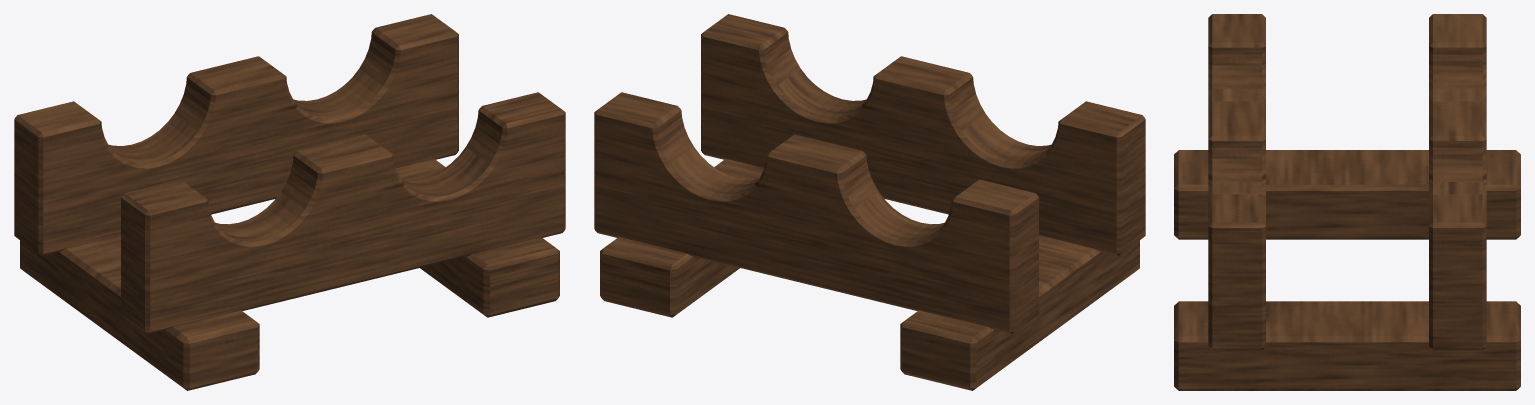
File: ThreeFingerRest_LOD0.fbx
3 views of the same model, side by side, from view 1: azimuth 30°, elevation 25°; view 2: azimuth 150°, elevation 25°; view 3: azimuth 270°, elevation 25° (orthographic). The views are drawn at different scales.
Parts seen in each view (by area): view 1: ThreeFingerRest; view 2: ThreeFingerRest; view 3: ThreeFingerRest.
Part boxes in pixels (left/top/right/bottom): ThreeFingerRest: left=14, top=14, right=565, bottom=390; ThreeFingerRest: left=594, top=14, right=1145, bottom=390; ThreeFingerRest: left=1174, top=14, right=1520, bottom=390.
Bounding box in the file's own units: 0.314 × 0.124 × 0.217.
